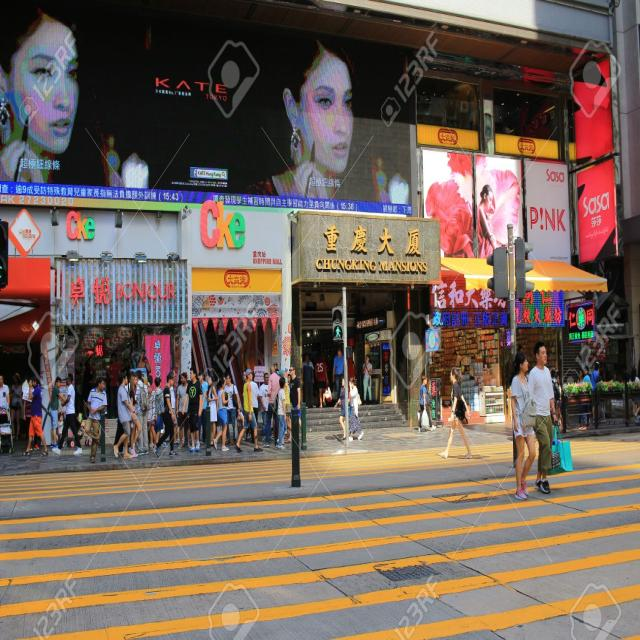body: (259, 31, 354, 202), (0, 3, 82, 188), (527, 340, 560, 494), (509, 348, 538, 501), (437, 364, 475, 461), (51, 371, 84, 456), (233, 366, 264, 453), (151, 370, 180, 460), (19, 373, 49, 458), (476, 180, 506, 258), (84, 375, 108, 464), (112, 368, 134, 459), (181, 364, 203, 453), (284, 363, 308, 444), (262, 364, 282, 448), (22, 373, 40, 452), (134, 368, 150, 456), (161, 368, 178, 448), (175, 371, 192, 449), (213, 376, 230, 452), (49, 375, 66, 450), (416, 373, 437, 433), (224, 372, 241, 446), (272, 375, 288, 451), (128, 373, 142, 458), (347, 376, 364, 443), (8, 372, 24, 440), (258, 372, 273, 442), (314, 349, 330, 409), (578, 364, 592, 432), (206, 375, 219, 446), (197, 370, 209, 446), (333, 376, 347, 440), (145, 380, 158, 448), (302, 354, 317, 409), (154, 377, 165, 444), (250, 371, 260, 443), (332, 348, 345, 403), (596, 367, 608, 425), (549, 366, 561, 424), (590, 362, 601, 425), (554, 369, 565, 432), (361, 353, 374, 405), (628, 366, 640, 421), (0, 374, 11, 424), (114, 414, 127, 454), (132, 347, 151, 371), (283, 382, 289, 438), (56, 412, 65, 448), (450, 349, 460, 372), (465, 361, 476, 380), (124, 378, 131, 396), (577, 369, 585, 384), (516, 343, 523, 356), (287, 373, 293, 387), (242, 369, 248, 383)
